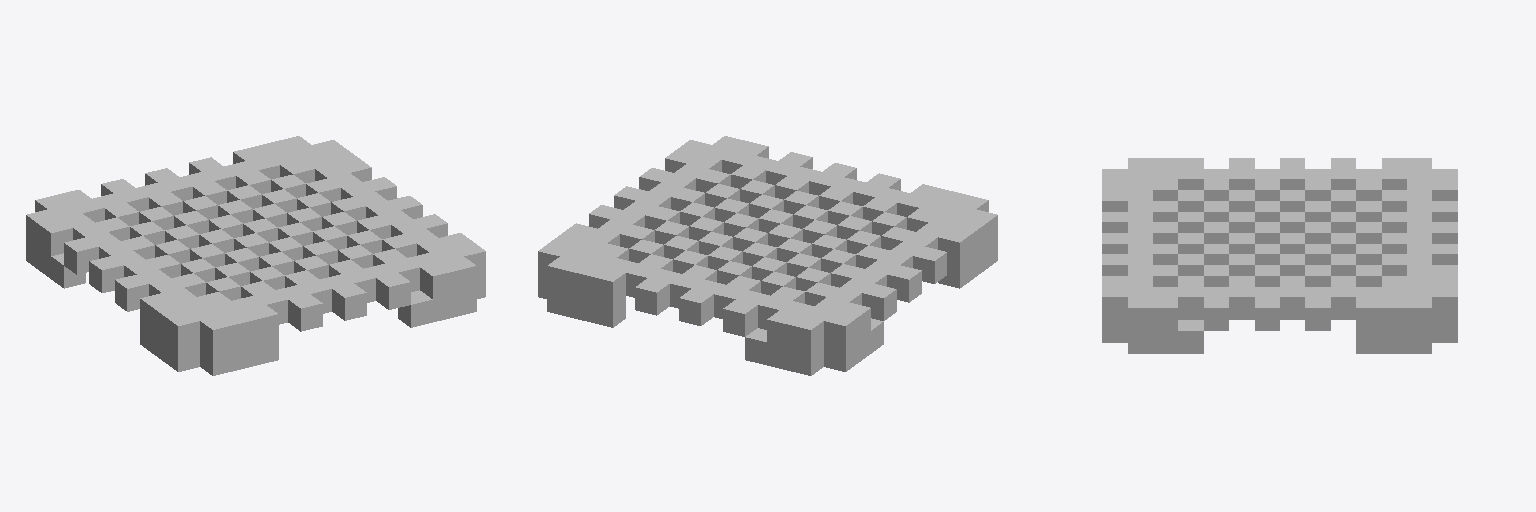
File: surface_grate.obj
The picture shows the model from 3 angles: view 1: azimuth 30°, elevation 25°; view 2: azimuth 150°, elevation 25°; view 3: azimuth 270°, elevation 25°; orthographic projection.
Visible parts, largest first — view 1: surface_grate; view 2: surface_grate; view 3: surface_grate.
Part boxes in pixels (bbox=[...]): surface_grate: bbox=[26, 136, 485, 375]; surface_grate: bbox=[538, 136, 997, 375]; surface_grate: bbox=[1102, 158, 1457, 353].
Bounding box in the file's own units: 14 × 2 × 14.